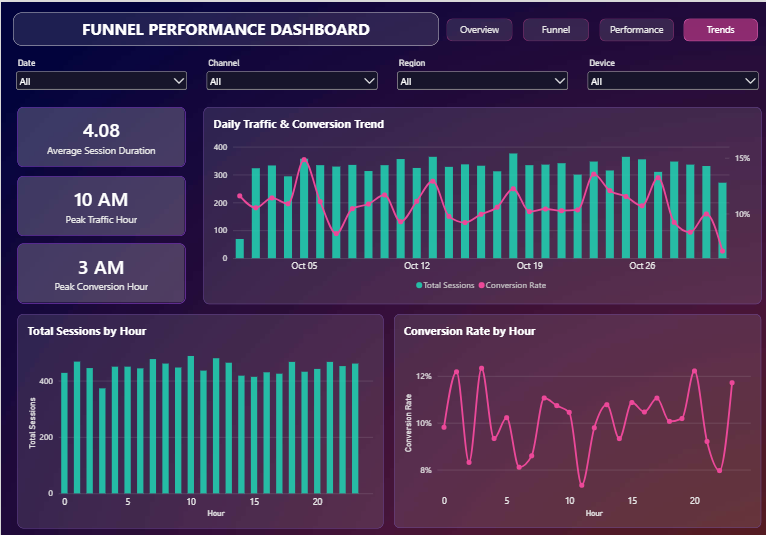

This screenshot's page, from the dashboard's own definition file:
{"tool":"powerbi","page":{"name":"Trends and User Behavior","canvas":[1280,950],"ordinal":3},"visuals":[{"type":"actionButton","box":[743.7,27.5,110,38],"z":0},{"type":"actionButton","box":[870.5,27.5,110,38],"z":1000},{"type":"actionButton","box":[997.3,27.4,124.1,38.2],"z":2000},{"type":"actionButton","box":[1138.2,27.5,124.1,38.2],"z":3000},{"type":"cardVisual","fields":{"Data":["_Measures.Average Session Duration"]},"box":[26.7,175,280,100],"z":4000},{"type":"textbox","box":[20,18.3,710,55],"z":5000},{"type":"slicer","fields":{"Values":["funnel_analysis_data.Date"]},"box":[20,93.6,295,55],"z":6000},{"type":"slicer","fields":{"Values":["funnel_analysis_data.Channel"]},"box":[337.2,93.6,295,55],"z":7000},{"type":"slicer","fields":{"Values":["funnel_analysis_data.Region"]},"box":[654.4,93.6,295,55],"z":8000},{"type":"slicer","fields":{"Values":["funnel_analysis_data.Device"]},"box":[971.7,93.6,295,55],"z":9000},{"type":"cardVisual","fields":{"Data":["_Measures.Peak Traffic Hour"]},"box":[26.7,289.2,280,100],"z":10000},{"type":"cardVisual","fields":{"Data":["_Measures.Peak Conversion Hour"]},"box":[26.7,403.3,280,100],"z":11000},{"type":"lineClusteredColumnComboChart","title":"Daily Traffic & Conversion Trend","fields":{"Category":["funnel_analysis_data.Date"],"Y":["_Measures.Total Sessions"],"Y2":["_Measures.Conversion Rate"]},"box":[336.7,175,930,328.3],"z":11001},{"type":"clusteredColumnChart","fields":{"Category":["funnel_analysis_data.Hour"],"Y":["_Measures.Total Sessions"]},"box":[26.7,520,610,357],"z":11002},{"type":"lineChart","fields":{"Category":["funnel_analysis_data.Hour"],"Y":["_Measures.Conversion Rate"]},"box":[655,520,611.7,356.7],"z":11003}]}

Visuals, with their boxes on the page's 1280x950 design canvas (x1, y1, x2, y2). These are canvas units, not pixel positions in the 766x535 screenshot, which may show the page scaled, cropped or inside an application window:
actionButton: <bbox>744, 28, 854, 66</bbox>
actionButton: <bbox>870, 28, 980, 66</bbox>
actionButton: <bbox>997, 27, 1121, 66</bbox>
actionButton: <bbox>1138, 28, 1262, 66</bbox>
cardVisual - _Measures.Average Session Duration: <bbox>27, 175, 307, 275</bbox>
textbox: <bbox>20, 18, 730, 73</bbox>
slicer - funnel_analysis_data.Date: <bbox>20, 94, 315, 149</bbox>
slicer - funnel_analysis_data.Channel: <bbox>337, 94, 632, 149</bbox>
slicer - funnel_analysis_data.Region: <bbox>654, 94, 949, 149</bbox>
slicer - funnel_analysis_data.Device: <bbox>972, 94, 1267, 149</bbox>
cardVisual - _Measures.Peak Traffic Hour: <bbox>27, 289, 307, 389</bbox>
cardVisual - _Measures.Peak Conversion Hour: <bbox>27, 403, 307, 503</bbox>
"Daily Traffic & Conversion Trend" lineClusteredColumnComboChart: <bbox>337, 175, 1267, 503</bbox>
clusteredColumnChart - funnel_analysis_data.Hour x _Measures.Total Sessions: <bbox>27, 520, 637, 877</bbox>
lineChart - funnel_analysis_data.Hour x _Measures.Conversion Rate: <bbox>655, 520, 1267, 877</bbox>
